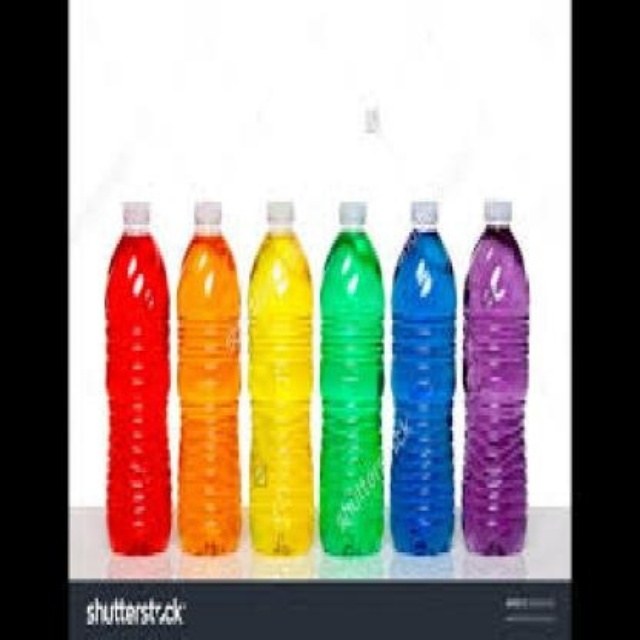trash: (463, 200, 528, 554), (248, 202, 312, 554), (105, 202, 169, 554), (320, 202, 383, 554), (391, 202, 454, 554)
